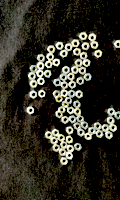nut: (91, 41, 100, 50), (82, 42, 91, 51), (75, 59, 84, 68), (95, 50, 103, 59), (72, 40, 81, 48), (65, 44, 74, 52), (56, 42, 65, 50), (47, 46, 56, 54), (45, 61, 54, 69), (37, 62, 46, 70), (37, 78, 46, 86), (84, 73, 93, 81), (77, 77, 85, 86), (106, 131, 114, 140), (94, 123, 103, 131), (89, 127, 97, 136), (62, 116, 70, 125), (75, 143, 83, 152), (89, 34, 97, 42), (80, 32, 88, 40), (74, 48, 82, 56), (80, 52, 88, 60), (61, 50, 69, 58), (38, 54, 46, 62), (53, 59, 61, 67), (30, 65, 38, 73), (44, 70, 52, 78), (36, 70, 44, 78), (30, 80, 38, 88), (30, 91, 38, 99), (27, 107, 35, 115), (83, 59, 91, 67), (79, 67, 87, 75), (68, 73, 76, 81), (60, 74, 68, 82), (69, 81, 77, 89), (61, 82, 69, 90), (54, 79, 62, 87), (76, 91, 84, 99), (61, 90, 69, 98), (74, 101, 82, 109), (58, 107, 66, 115), (56, 111, 64, 119), (67, 107, 75, 115), (77, 116, 85, 124), (108, 108, 116, 116), (108, 117, 116, 125), (110, 124, 118, 132), (102, 125, 110, 133), (85, 133, 93, 141), (69, 116, 77, 124), (74, 123, 82, 131), (67, 127, 75, 135), (66, 136, 74, 144), (58, 134, 66, 142), (45, 132, 53, 140), (53, 145, 61, 153), (67, 145, 75, 153), (59, 149, 67, 157), (61, 158, 69, 166), (28, 73, 37, 80), (72, 66, 79, 75), (63, 66, 70, 75), (47, 54, 55, 61), (39, 90, 46, 98), (69, 90, 76, 98), (53, 91, 61, 98), (65, 98, 73, 105), (75, 108, 82, 116), (96, 131, 104, 138), (82, 122, 89, 130), (78, 129, 85, 137), (52, 130, 60, 137), (51, 137, 58, 145), (61, 142, 68, 150), (66, 153, 74, 160), (56, 96, 63, 103), (63, 101, 70, 108), (115, 40, 120, 49), (115, 112, 120, 120)
